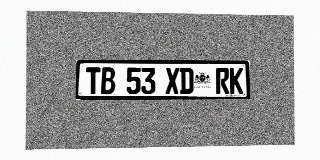3: (141, 67, 155, 94)
5: (127, 67, 141, 94)
B: (101, 67, 115, 94)
D: (180, 68, 193, 94)
K: (230, 68, 243, 94)
R: (216, 68, 229, 94)
T: (86, 67, 100, 94)
X: (165, 68, 179, 94)
